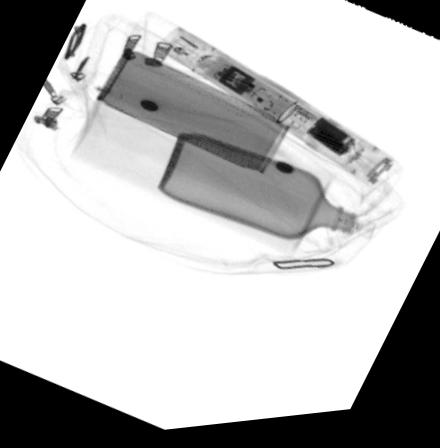Baton: (153, 27, 402, 194)
